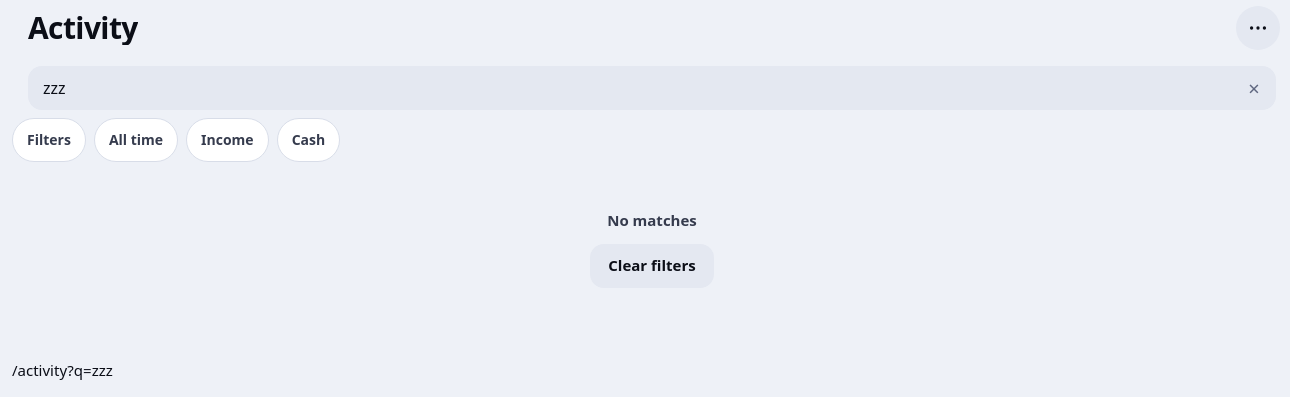
it: Activity feed › shows "No matches" with Clear filters, and "Nothing here yet" on the plain list
Click the button "Clear filters".
click(652, 266)  # box [590, 244, 714, 288]
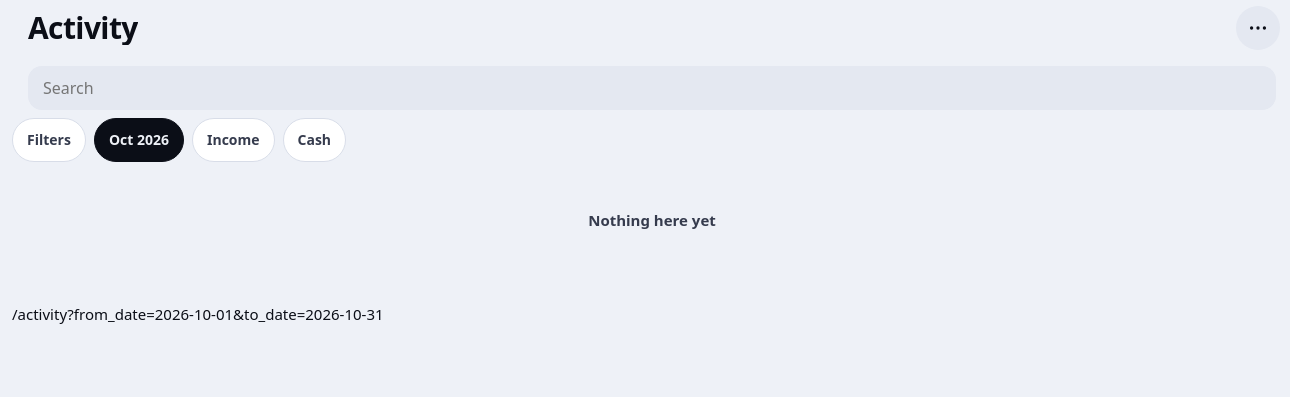
Expected: the text with test id "location" shows "from_date=", [12, 304, 384, 324]
Expected: the text "Nothing here yet" is shown, [588, 210, 716, 232]
